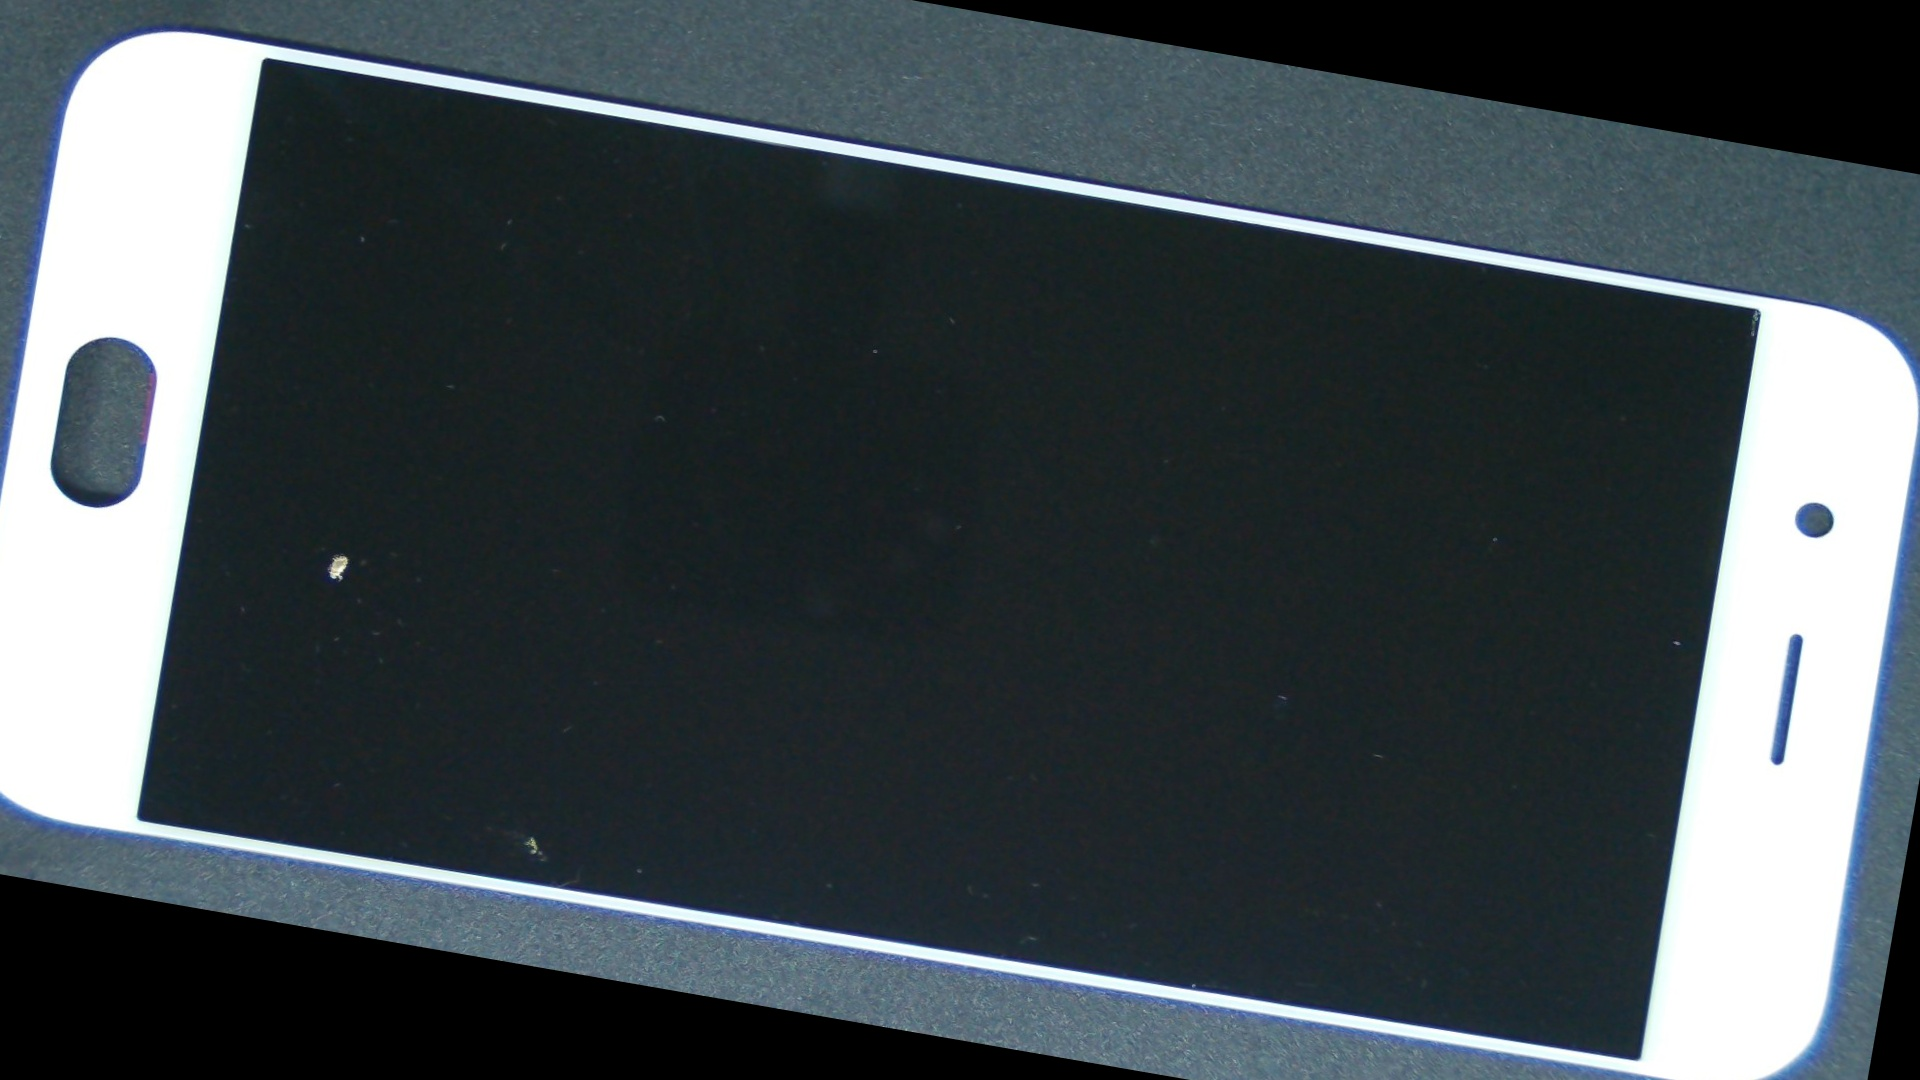oil: (179, 339, 932, 1018), (73, 199, 609, 906)
